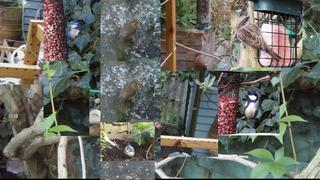blue tit: (63, 20, 80, 45), (123, 142, 135, 161)
great tit: (234, 91, 260, 123)
robin: (117, 20, 141, 46), (117, 81, 141, 107)
sparrow: (236, 16, 282, 62)
